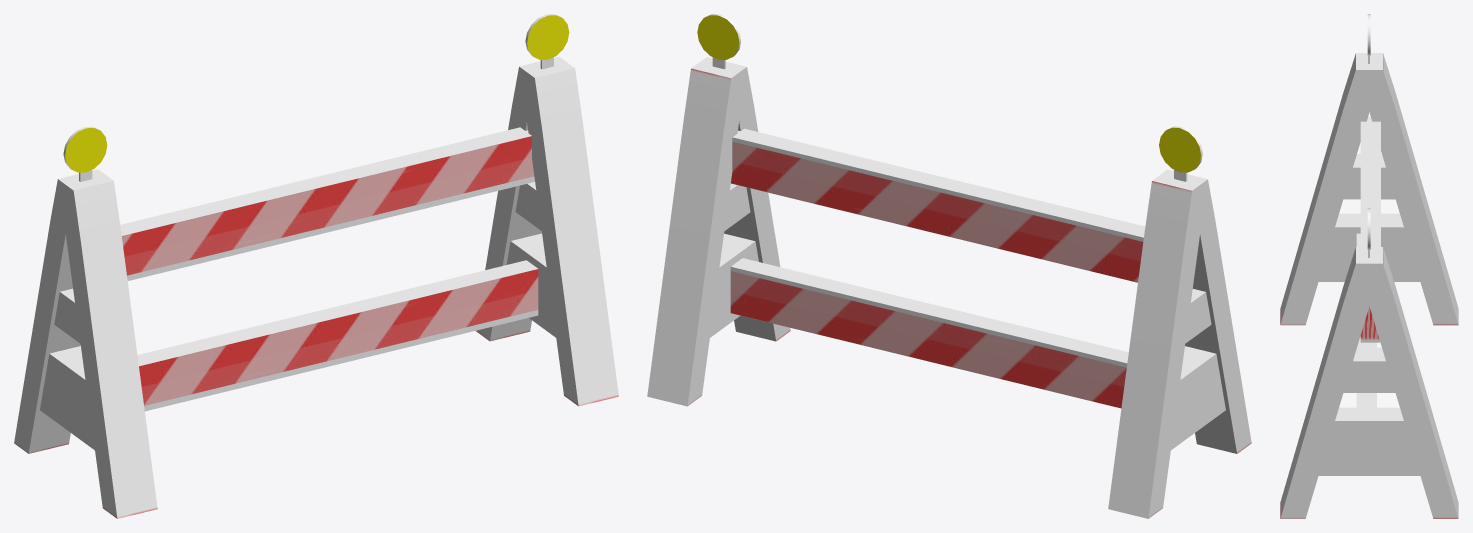
Rendered from barrier.fbx.
3 renders of one model, left to right at view 1: azimuth 30°, elevation 25°; view 2: azimuth 150°, elevation 25°; view 3: azimuth 270°, elevation 25°, orthographic. The views are drawn at different scales.
Parts seen in each view (by area): view 1: pCube13, pCube21, pCube20, pCube14, pCube17, pCube18, pCylinder126, pCylinder128, pCube15, pCube16; view 2: pCube13, pCube21, pCube20, pCube14, pCube17, pCube18, pCylinder126, pCylinder128, pCube15, pCube16; view 3: pCube14, pCube13, pCube18, pCube17, pCube21, pCube16, pCube15, pCube20.
Part boxes in pixels (<box>): pCube13: <box>14,169,157,518</box>; pCube21: <box>120,127,534,280</box>; pCube20: <box>137,260,538,411</box>; pCube14: <box>476,56,618,406</box>; pCube17: <box>40,346,94,450</box>; pCube18: <box>506,233,556,337</box>; pCylinder126: <box>63,126,107,172</box>; pCylinder128: <box>525,14,569,59</box>; pCube15: <box>54,288,80,343</box>; pCube16: <box>515,182,541,230</box>; pCube13: <box>1108,169,1251,518</box>; pCube21: <box>731,128,1145,282</box>; pCube20: <box>730,258,1128,408</box>; pCube14: <box>647,57,790,406</box>; pCube17: <box>1171,346,1225,449</box>; pCube18: <box>710,233,758,337</box>; pCylinder126: <box>1159,126,1202,172</box>; pCylinder128: <box>697,14,740,59</box>; pCube15: <box>1185,289,1211,343</box>; pCube16: <box>724,183,750,230</box>; pCube14: <box>1280,247,1458,518</box>; pCube13: <box>1280,53,1458,325</box>; pCube18: <box>1318,407,1420,475</box>; pCube17: <box>1318,213,1420,281</box>; pCube21: <box>1360,116,1380,342</box>; pCube16: <box>1343,347,1395,392</box>; pCube15: <box>1343,154,1395,199</box>; pCube20: <box>1356,233,1376,407</box>.
Bounding box in the file's own units: 328 × 217 × 116.
